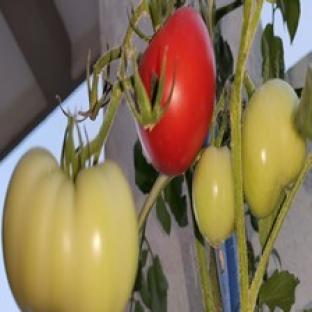Tomato: (3, 150, 139, 311), (138, 7, 214, 175), (243, 80, 306, 217), (193, 147, 235, 247)
